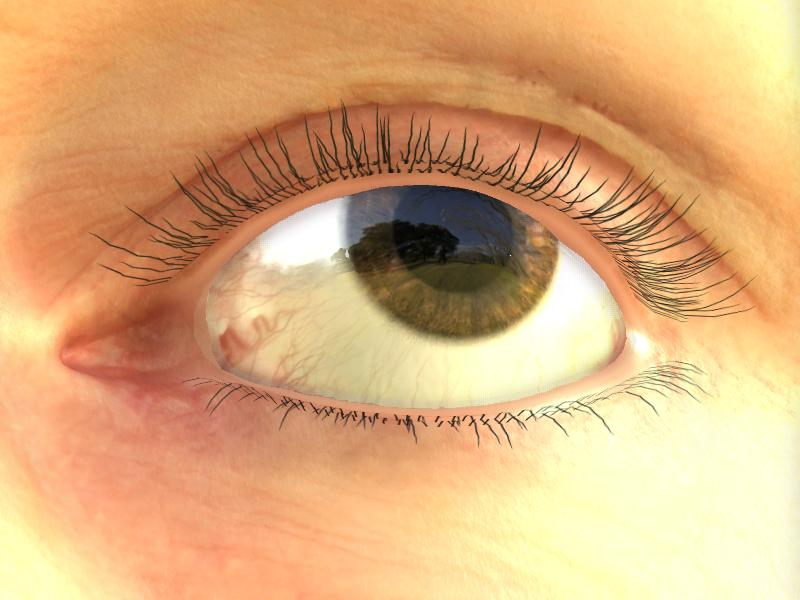eye: (347, 184, 552, 340)
